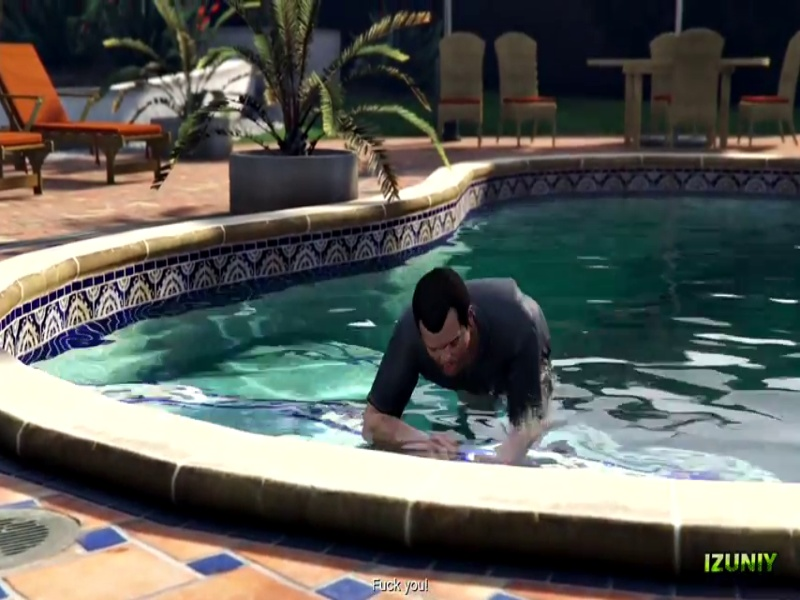human: (365, 261, 552, 460)
